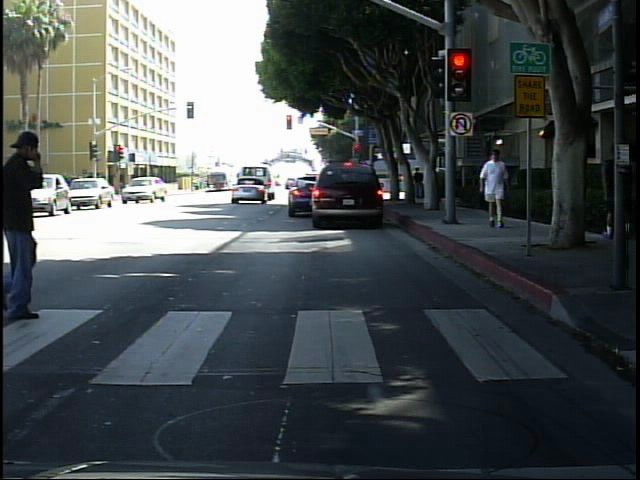person: (4, 121, 63, 335), (602, 138, 635, 247), (474, 145, 513, 230)
